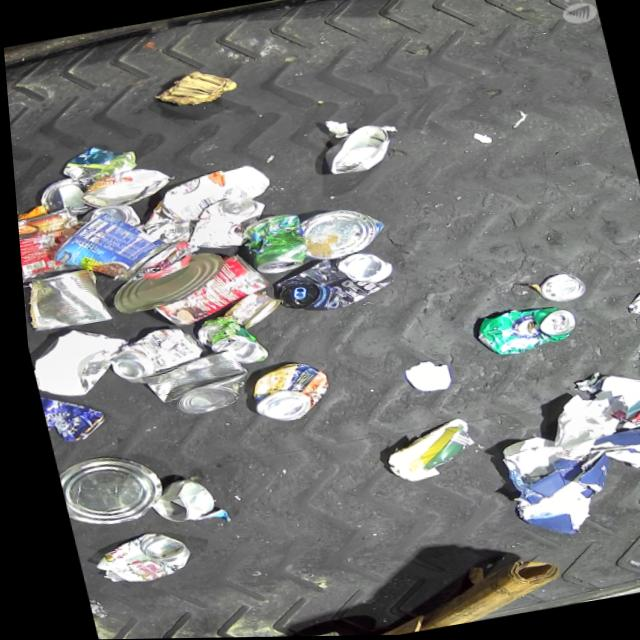can: (38, 204, 172, 293), (138, 249, 271, 330), (48, 445, 163, 532), (265, 247, 397, 318), (131, 346, 250, 422), (99, 250, 226, 315), (79, 526, 187, 590), (98, 322, 203, 387), (17, 264, 110, 333), (467, 302, 577, 360), (239, 357, 330, 426), (176, 194, 270, 256), (294, 202, 387, 263), (13, 206, 84, 281), (234, 213, 309, 278), (72, 164, 173, 212), (187, 311, 264, 372), (317, 121, 399, 178), (32, 383, 105, 445), (136, 474, 208, 527), (214, 288, 280, 333), (31, 174, 91, 221), (74, 202, 139, 234), (531, 270, 583, 306), (238, 629, 335, 638)
